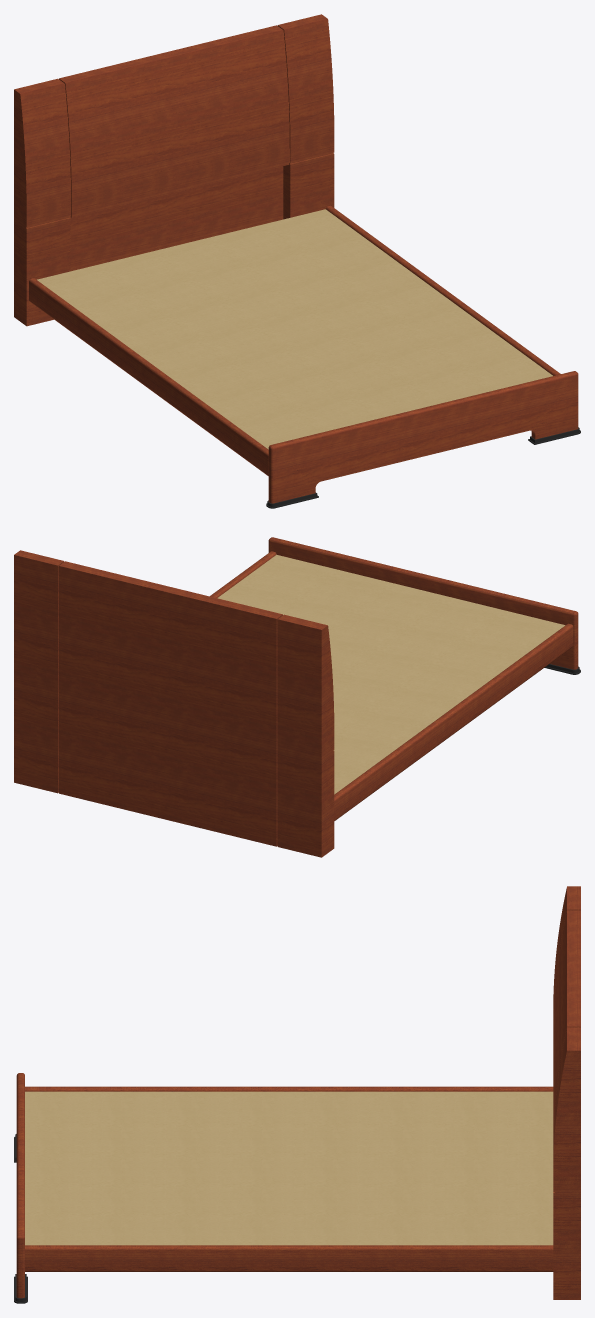
Rendered from 001.1_Muebleria-La-Autentica.glb.
3 views of the same model, one above another, from view 1: azimuth 30°, elevation 25°; view 2: azimuth 150°, elevation 25°; view 3: azimuth 270°, elevation 25° (orthographic). The views are drawn at different scales.
Visible parts, largest first — view 1: root; view 2: root; view 3: root.
Part boxes in pixels (bbox=[...]): root: bbox=[14, 14, 580, 508]; root: bbox=[14, 537, 580, 857]; root: bbox=[14, 886, 580, 1303].
Size of the model in its own units: 1.42 by 1 by 2.04.
Materials: 3 (2 with a texture image).
